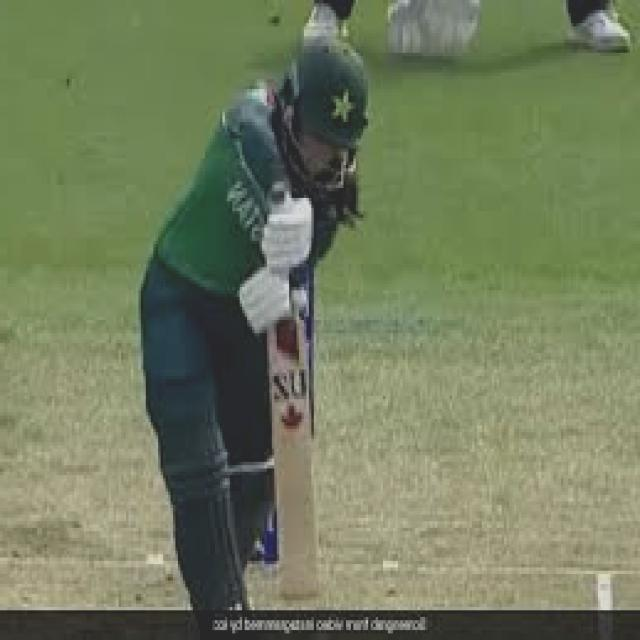bat: (265, 316, 327, 617)
toe: (269, 585, 322, 608)
